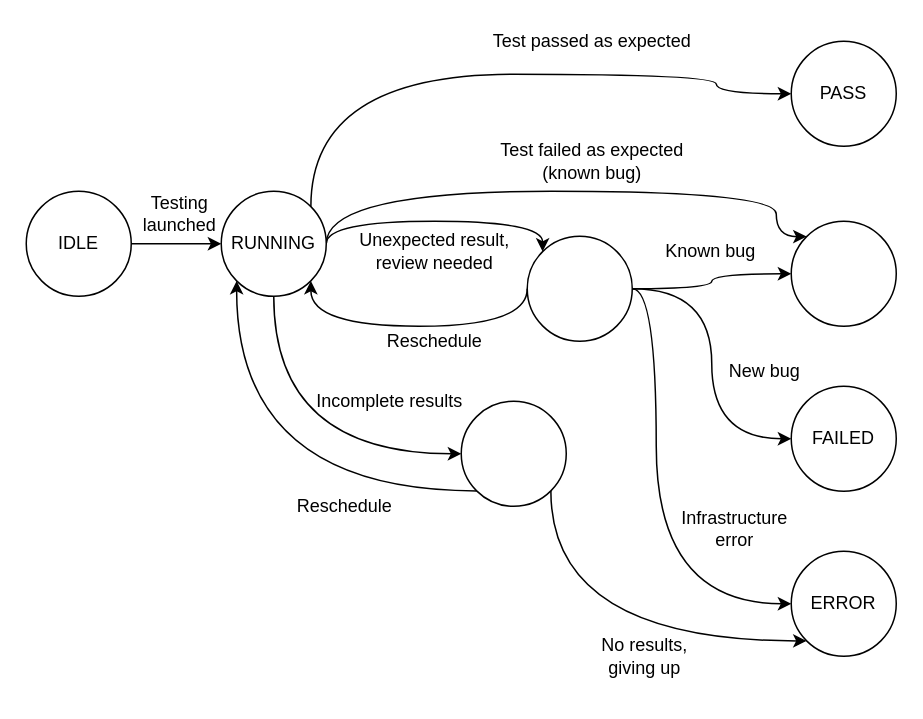
The diagram is 923 pixels wide and 719 high, and some of its shapes have lost their labels. Each missing label, with the centre of its shape:
BLOCKED: [513,453]
PAUSED: [579,288]
WAIVED: [843,273]
